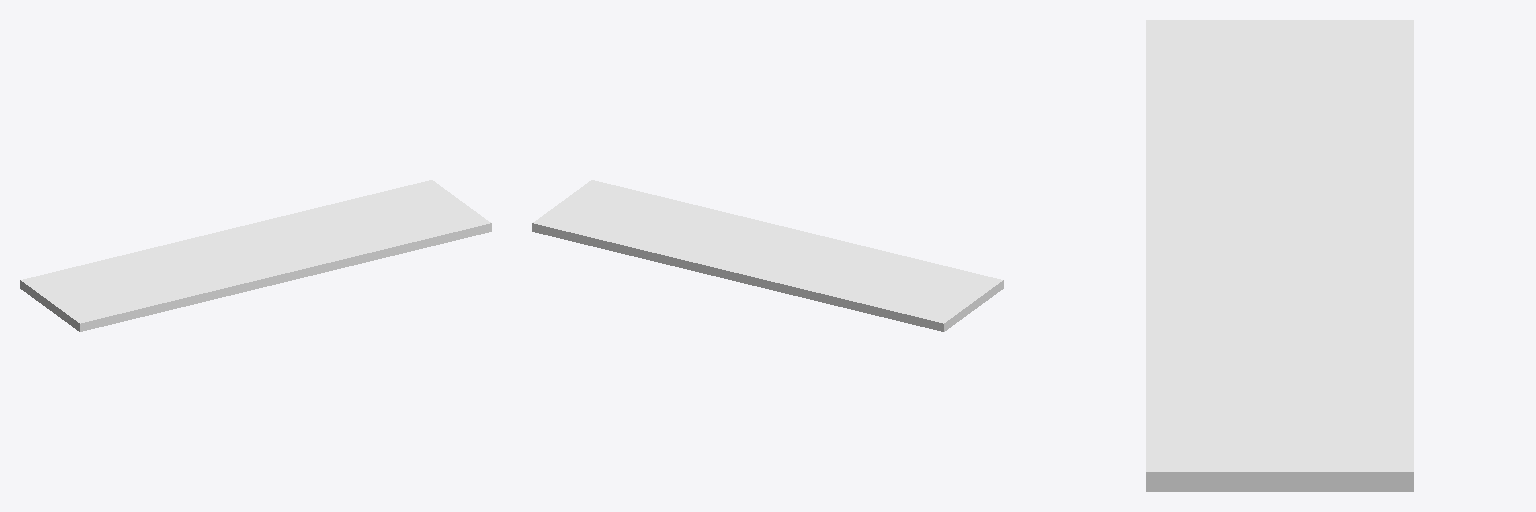
robot.urdf — plane:
<?xml version="1.0" ?>
<!-- =================================================================================== -->
<!-- |    This document was autogenerated by xacro from plane_with_restitution.urdf.xacro | -->
<!-- |    EDITING THIS FILE BY HAND IS NOT RECOMMENDED                                 | -->
<!-- =================================================================================== -->
<robot name="plane">
  <link name="planeLink">
    <contact>
      <lateral_friction value="1.0"/>
      <restitution value="0.0"/>
    </contact>
    <inertial>
      <origin rpy="0 0 0" xyz="0 0 0"/>
      <mass value=".0"/>
      <inertia ixx="0" ixy="0" ixz="0" iyy="0" iyz="0" izz="0"/>
    </inertial>
    <visual>
      <origin rpy="0 0 0" xyz="0.85 -0.1 -0.12"/>
      <geometry>
        <box size="2 0.5 0.04"/>
      </geometry>
      <material name="white">
        <color rgba="1 1 1 1"/>
      </material>
    </visual>
    <collision>
      <origin rpy="0 0 0" xyz="0.85 -0.1 -0.12"/>
      <geometry>
        <box size="2 0.5 0.04"/>
      </geometry>
    </collision>
  </link>
  <place_for_joints/>
</robot>

--- Facts derived from the render (not from the file) ---
The picture shows the robot from 3 angles, left to right: view 1: azimuth 30°, elevation 25°; view 2: azimuth 150°, elevation 25°; view 3: azimuth 270°, elevation 25°; orthographic projection.
Robot: plane — 1 links, 0 joints (none); root link planeLink; default pose: all joints at 0.
Visible links, largest first — view 1: planeLink; view 2: planeLink; view 3: planeLink.
Link boxes in pixels (left/top/right/bottom): planeLink: left=20, top=180, right=491, bottom=331; planeLink: left=532, top=180, right=1003, bottom=331; planeLink: left=1146, top=20, right=1413, bottom=491.
Size in the robot's own frame: 2 by 0.5 by 0.04 metres.
Geometry: primitives only (box / cylinder / sphere), no mesh files.
